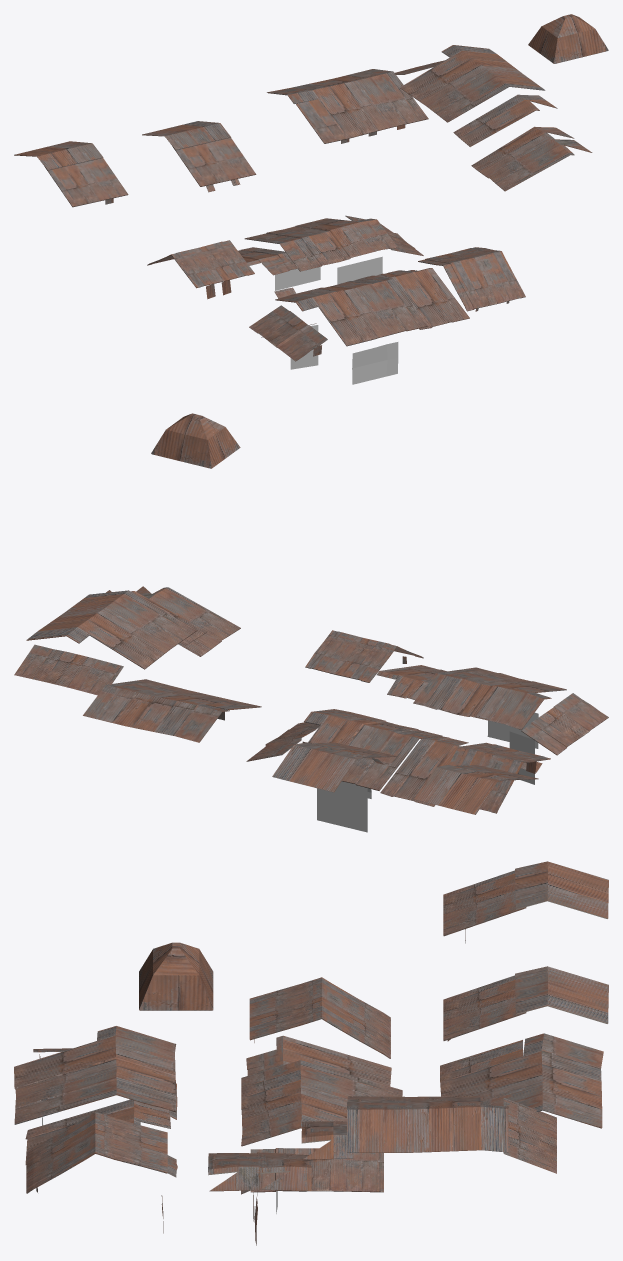
The model's file is SM_WestVillage_Toles00.fbx.
The picture shows the model from 3 angles, top to bottom: view 1: azimuth 30°, elevation 25°; view 2: azimuth 150°, elevation 25°; view 3: azimuth 270°, elevation 25°; orthographic projection. The views are drawn at different scales.
Visible parts, largest first — view 1: SM_WestVillage_Toles00; view 2: SM_WestVillage_Toles00; view 3: SM_WestVillage_Toles00.
Boxes of the visible parts, x1,y1,x2,y2 form: SM_WestVillage_Toles00: (14, 14, 608, 384); SM_WestVillage_Toles00: (14, 413, 608, 832); SM_WestVillage_Toles00: (14, 861, 608, 1245).
Size of the model in its own units: 5617 by 3332 by 4593.
